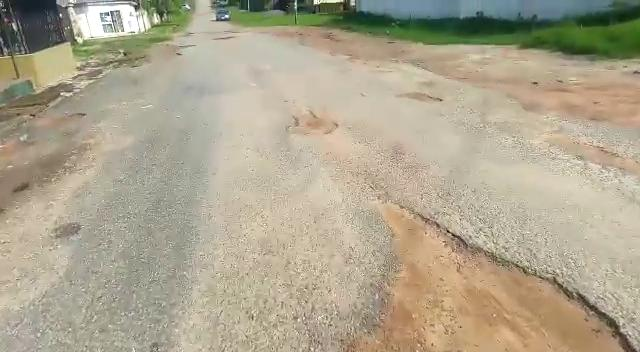pothole: (342, 201, 640, 352), (285, 109, 337, 137), (398, 91, 448, 105)
